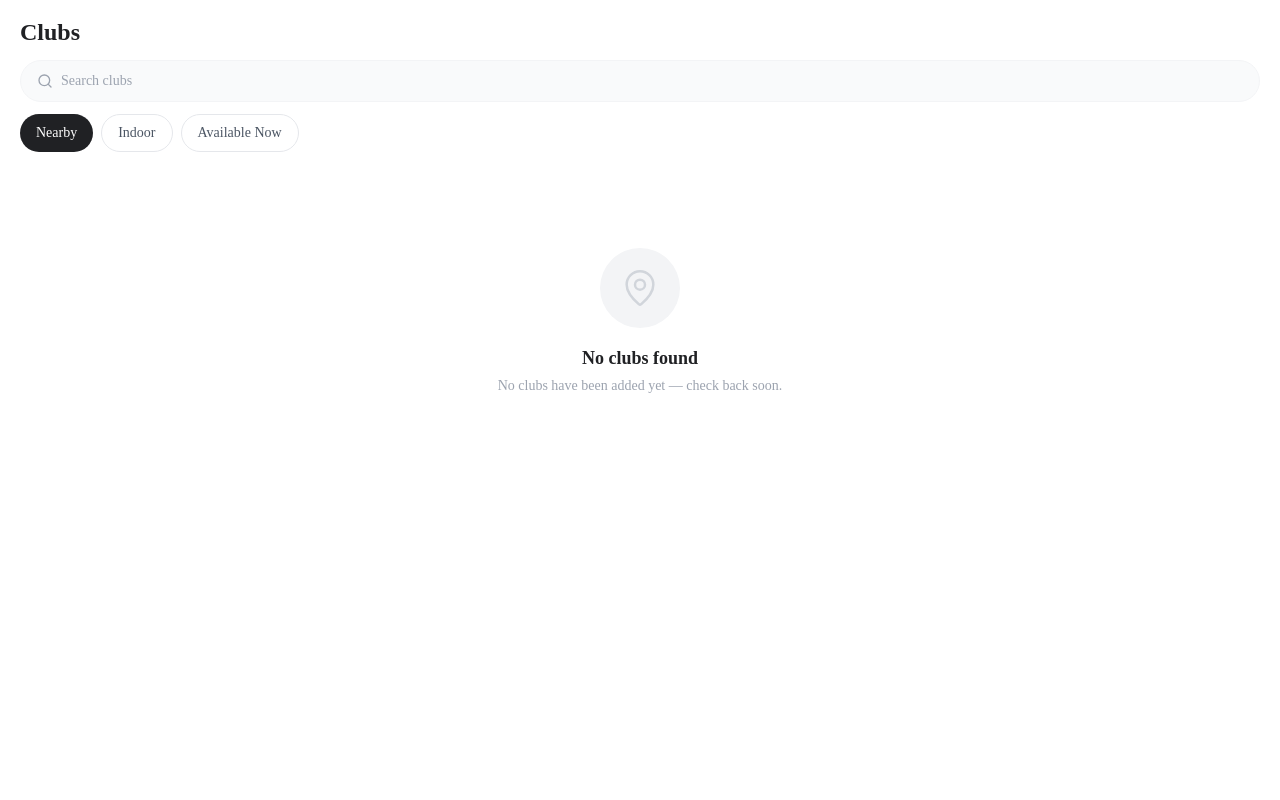
Clubs page — search suggestion chips (integration) › a zero-match query renders NOTHING — never the dropdown empty panel
Type "Nowhereville" into the field labelled "Search clubs" at x=652, y=81, box [61,71,1243,91]
Wait 350 ms
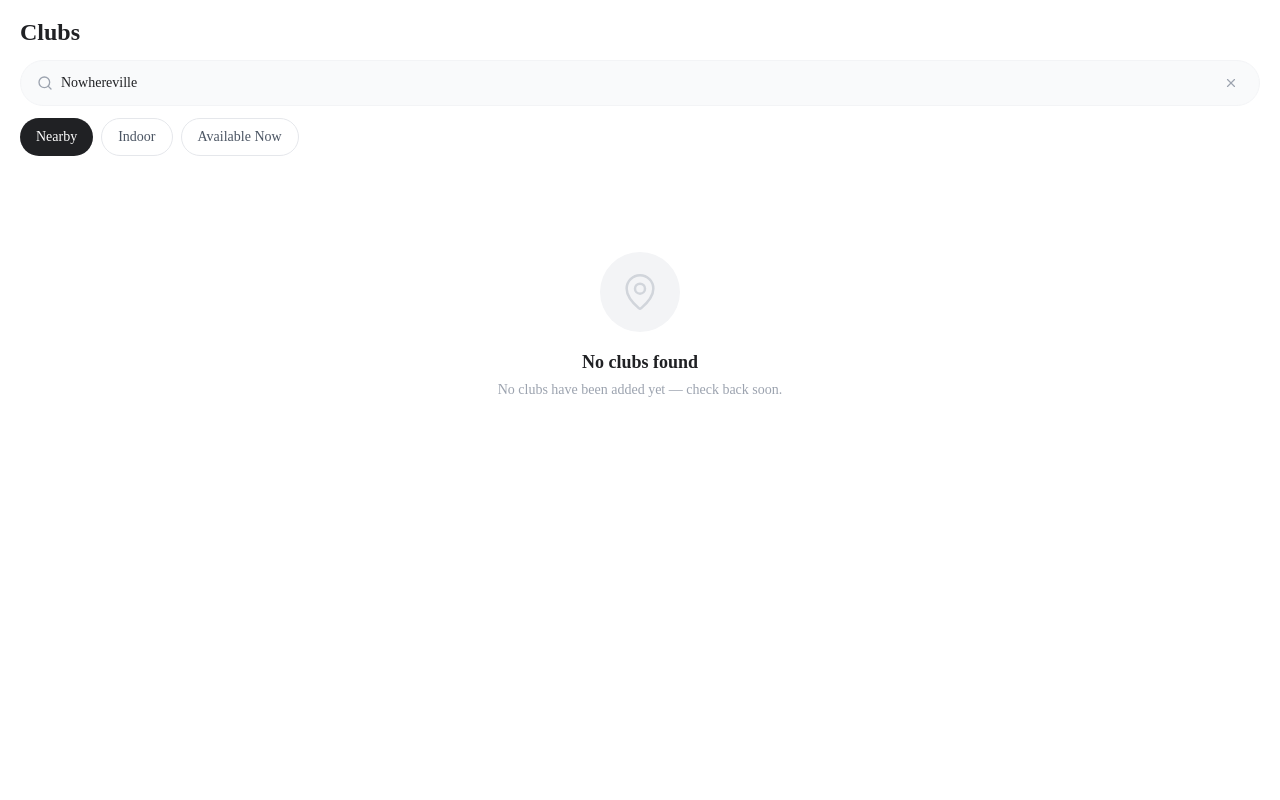
Result: the element with test id "search-suggestion-chips" is gone
